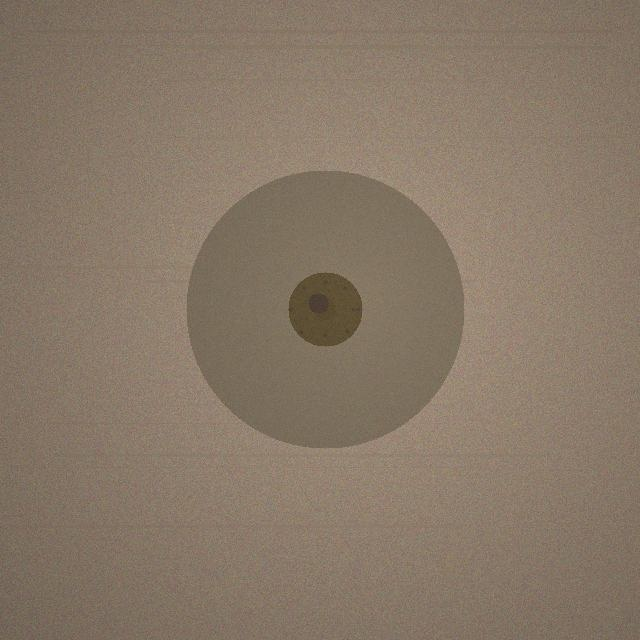cold_weld: (186, 170, 464, 448)
